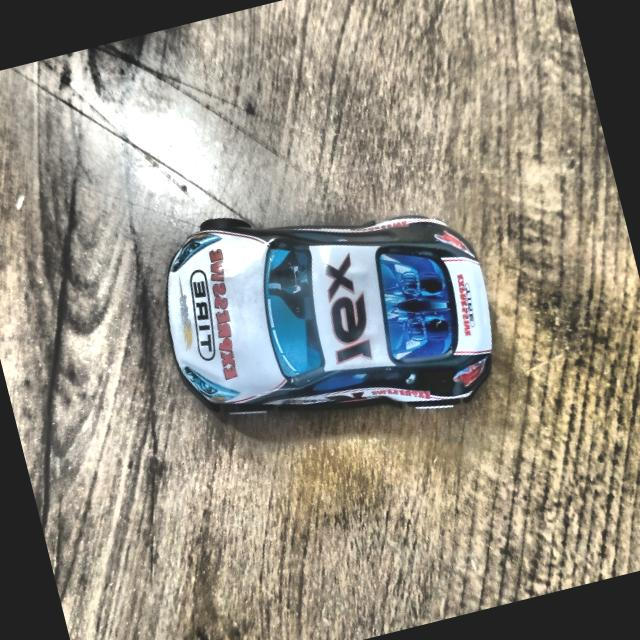Car: (140, 155, 524, 478)
